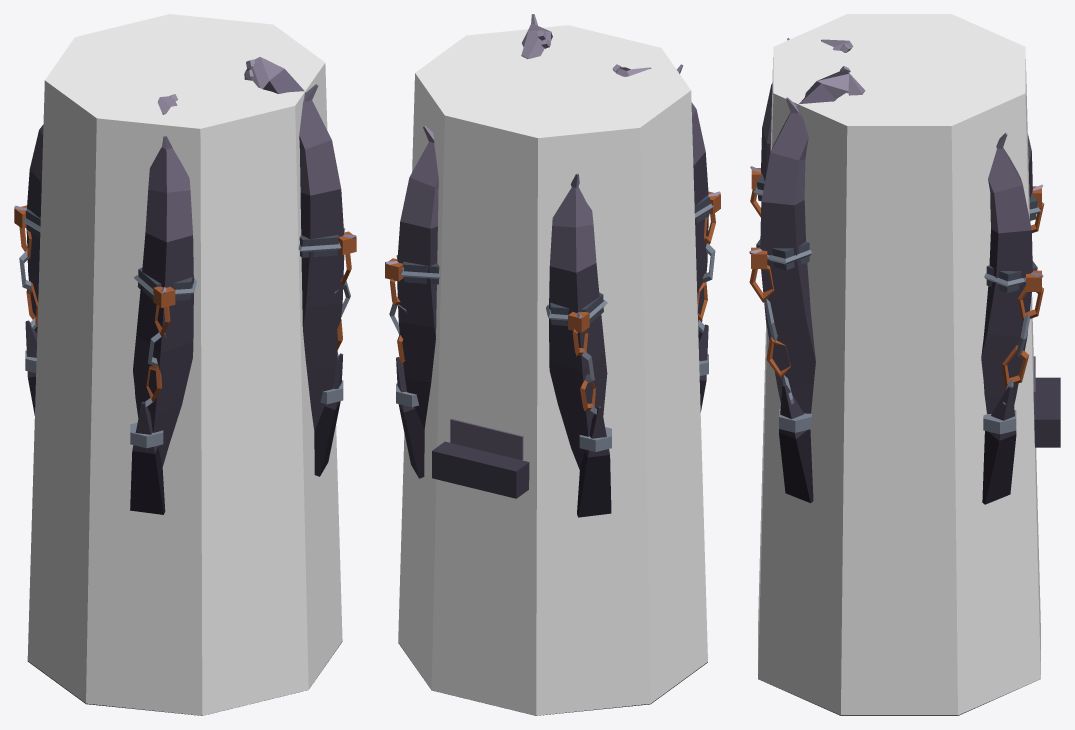
The model's file is volcanic_obsidian_kraken_altar.glb.
3 renders of one model, left to right at view 1: azimuth 30°, elevation 25°; view 2: azimuth 150°, elevation 25°; view 3: azimuth 270°, elevation 25°, orthographic. The views are drawn at different scales.
Parts seen in each view (by area): view 1: col_volckraken_base, volcanic_obsidian_kraken_altar; view 2: col_volckraken_base, volcanic_obsidian_kraken_altar; view 3: col_volckraken_base, volcanic_obsidian_kraken_altar.
Boxes of the visible parts, x1,y1,x2,y2 form: col_volckraken_base: (27, 14, 342, 715); volcanic_obsidian_kraken_altar: (14, 57, 356, 715); col_volckraken_base: (398, 25, 707, 715); volcanic_obsidian_kraken_altar: (385, 14, 720, 715); col_volckraken_base: (758, 14, 1040, 715); volcanic_obsidian_kraken_altar: (749, 38, 1060, 715).
Bounding box in the file's own units: 4.07 × 9.12 × 4.25.
